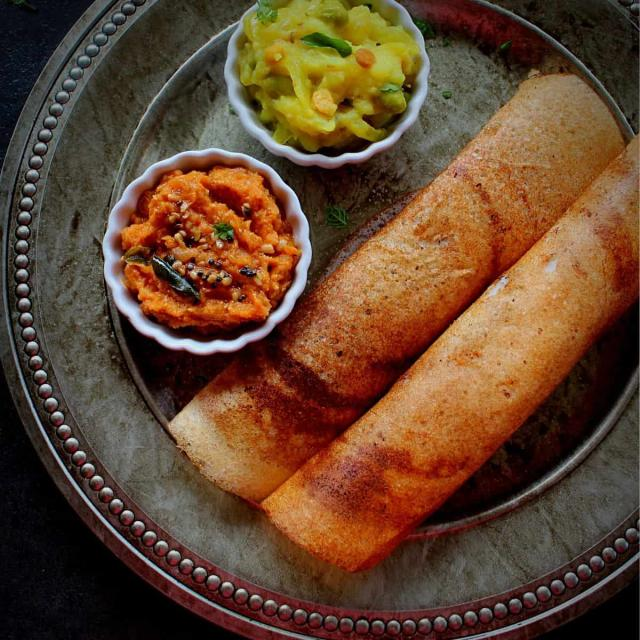Wet Waste: (165, 71, 614, 528), (266, 138, 640, 587)
